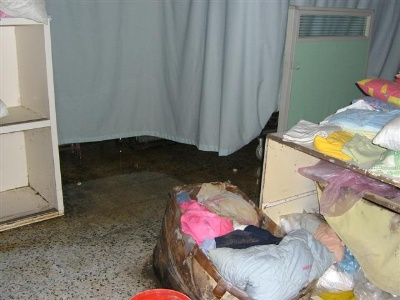box: (153, 180, 288, 300), (1, 17, 65, 233)
